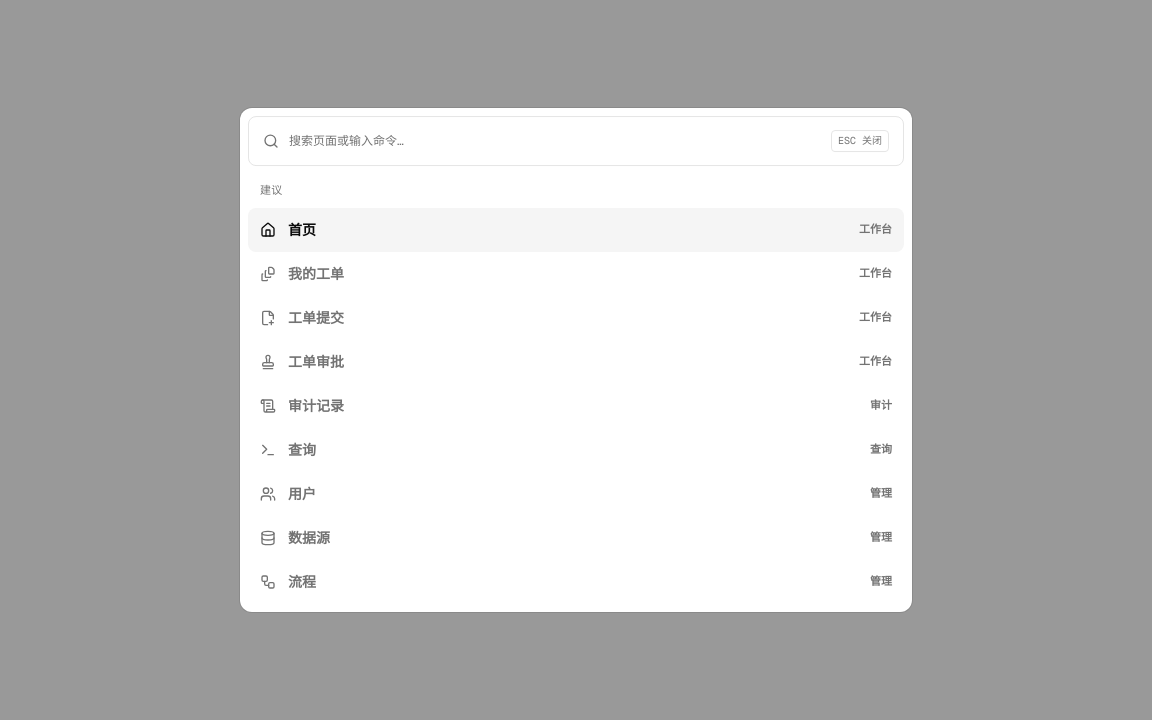
CommandMenu › filters by the translated label and reports the result count
This screenshot has width=1152, height=720.
Expected: the list is shown, [248,208,904,604]
Type "工单" into the dropdown at (555, 141), box [289,117,821,165]
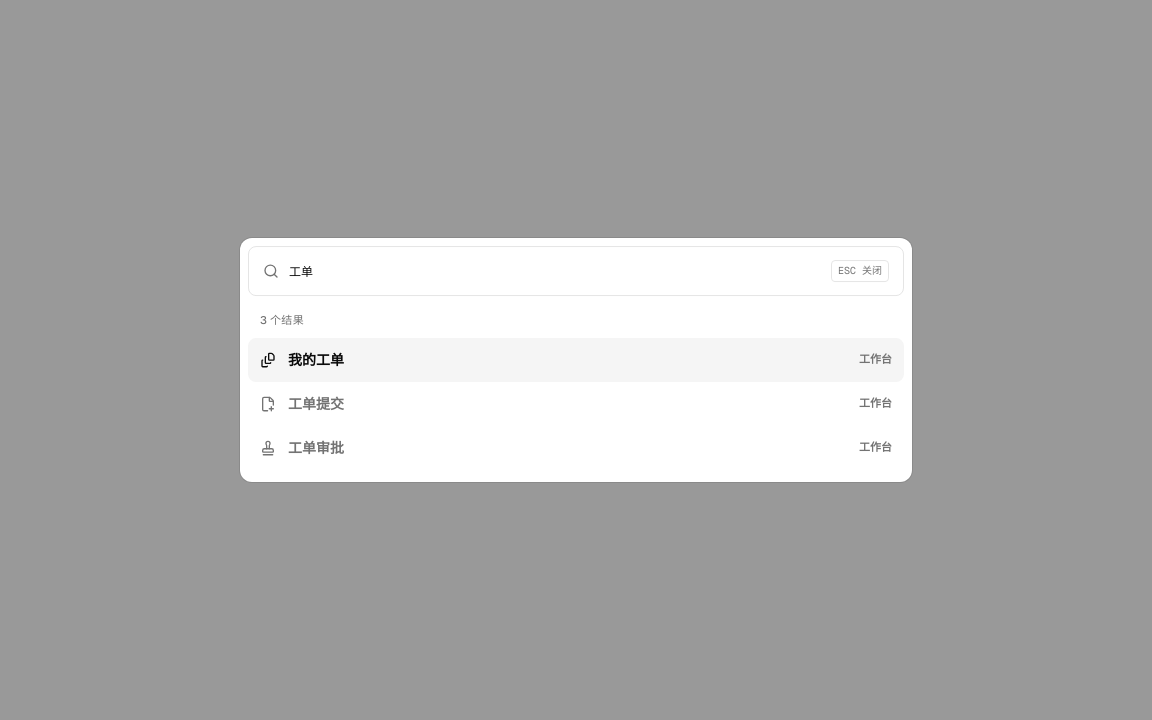
Expected: the number of options is 3, [248,338,904,382]; [248,382,904,426]; [248,426,904,470]
Expected: the text "3 个结果" is shown, [260,313,304,327]
Expected: the option "数据源" is gone
